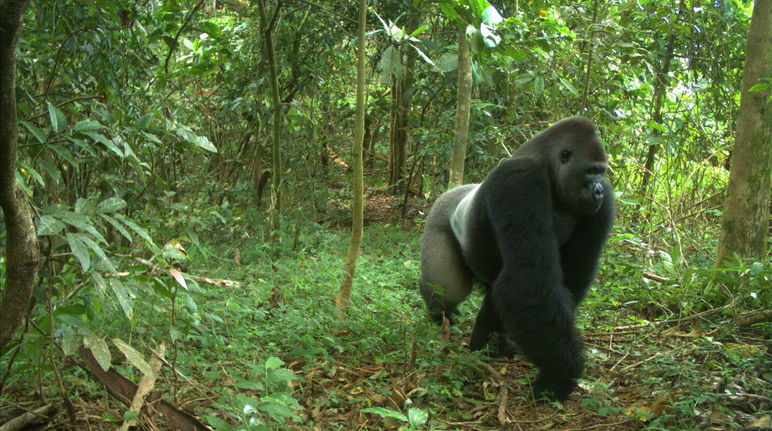Gorilla: (413, 115, 645, 370)
